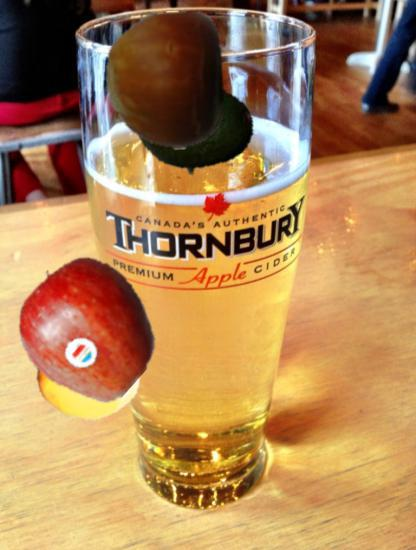Apple: (19, 259, 160, 400)
Avocado: (133, 68, 254, 189)
Nut: (95, 11, 235, 151)
Quince: (35, 312, 145, 422)
